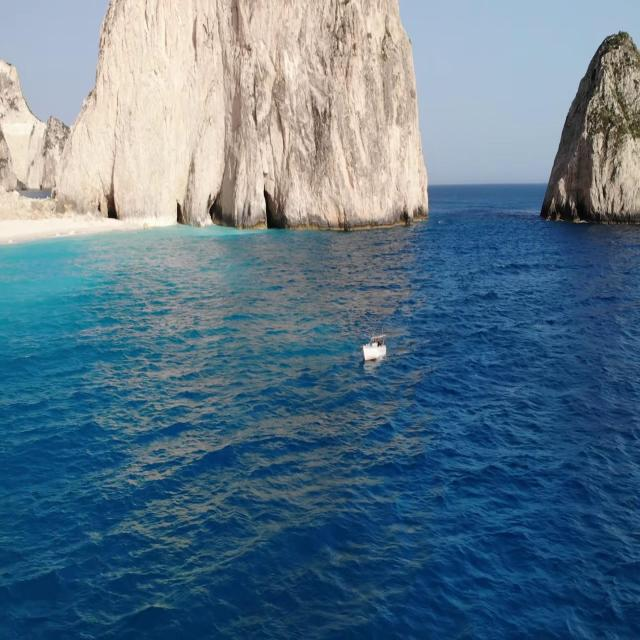boat: (360, 322, 386, 364)
